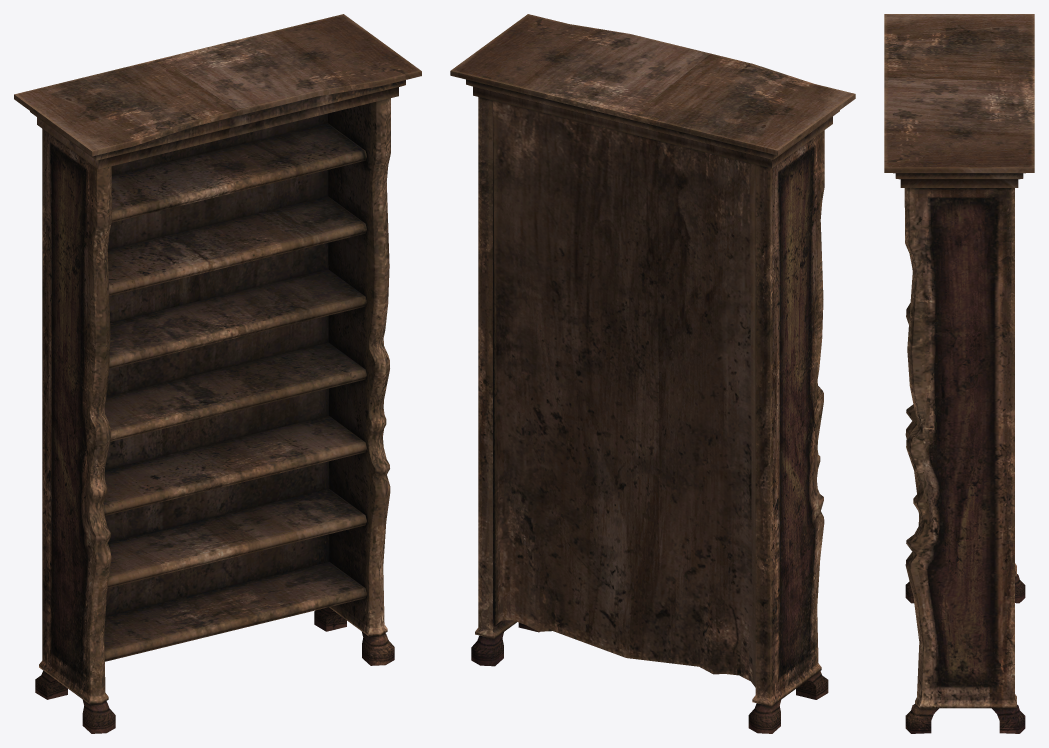
File: shelf_high02.dae
3 renders of one model, left to right at view 1: azimuth 30°, elevation 25°; view 2: azimuth 150°, elevation 25°; view 3: azimuth 270°, elevation 25°, orthographic. The views are drawn at different scales.
Parts seen in each view (by area): view 1: shelf_high01_mesh; view 2: shelf_high01_mesh; view 3: shelf_high01_mesh.
Boxes of the visible parts, left/top/right/bottom form: shelf_high01_mesh: left=14, top=14, right=421, bottom=733; shelf_high01_mesh: left=450, top=14, right=855, bottom=733; shelf_high01_mesh: left=884, top=14, right=1034, bottom=733.
Bounding box in the file's own units: 2.24 × 3.91 × 0.9218.
